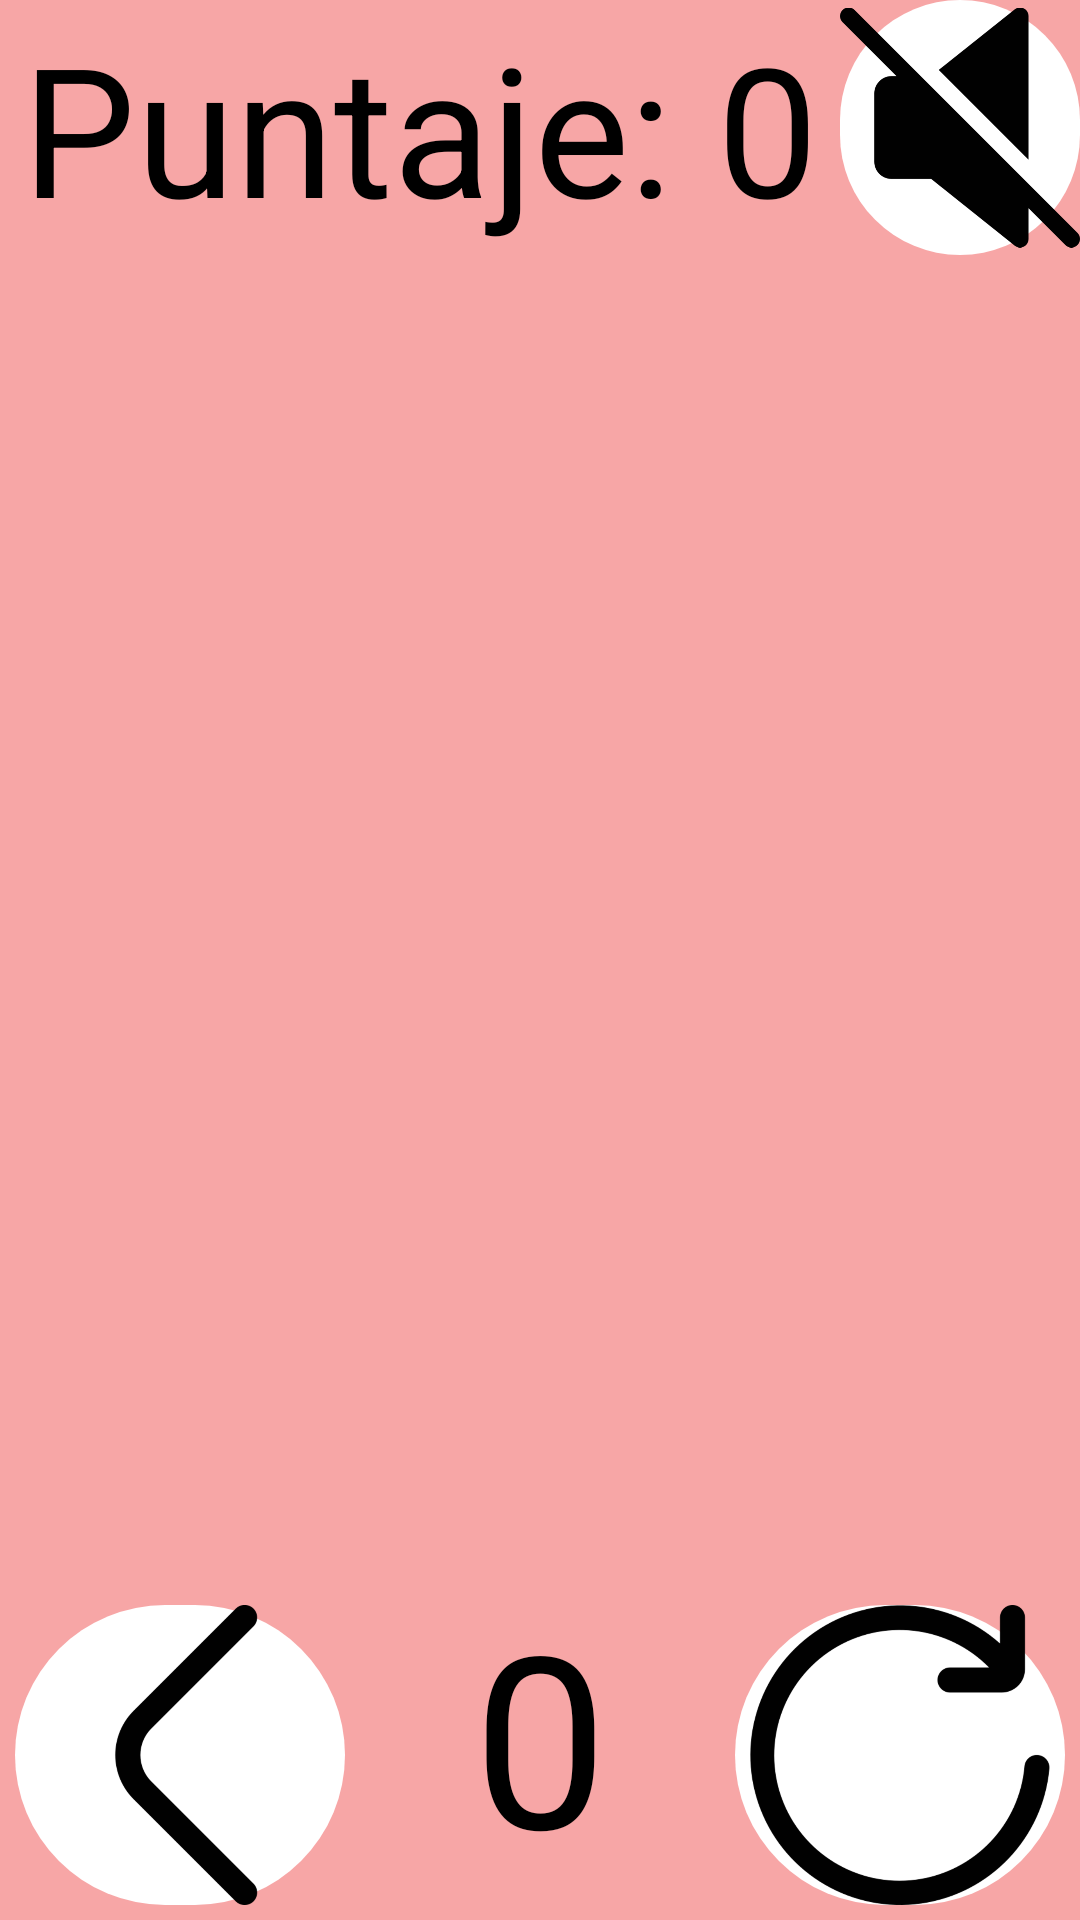

Named icons in this screenshot (1080*1920) and their centers, point (x, y):
angulo la izquierda: point (180, 1755)
gira la derecha: point (900, 1755)
mute: point (960, 127)
